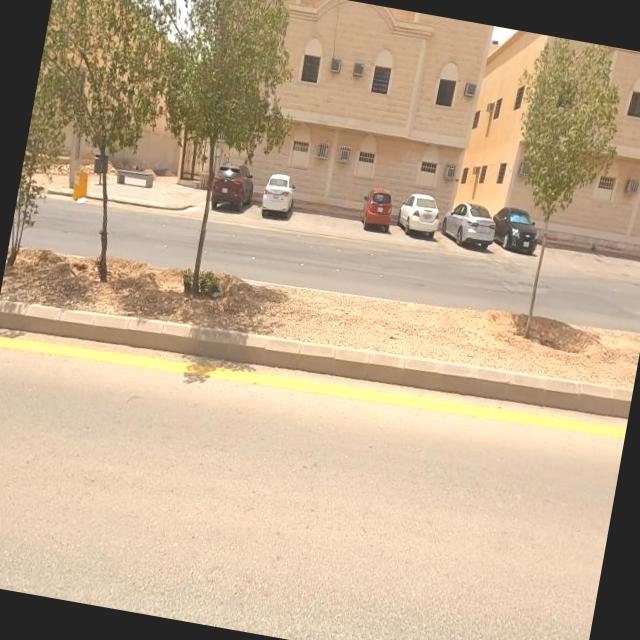debris: (53, 166, 105, 228)
